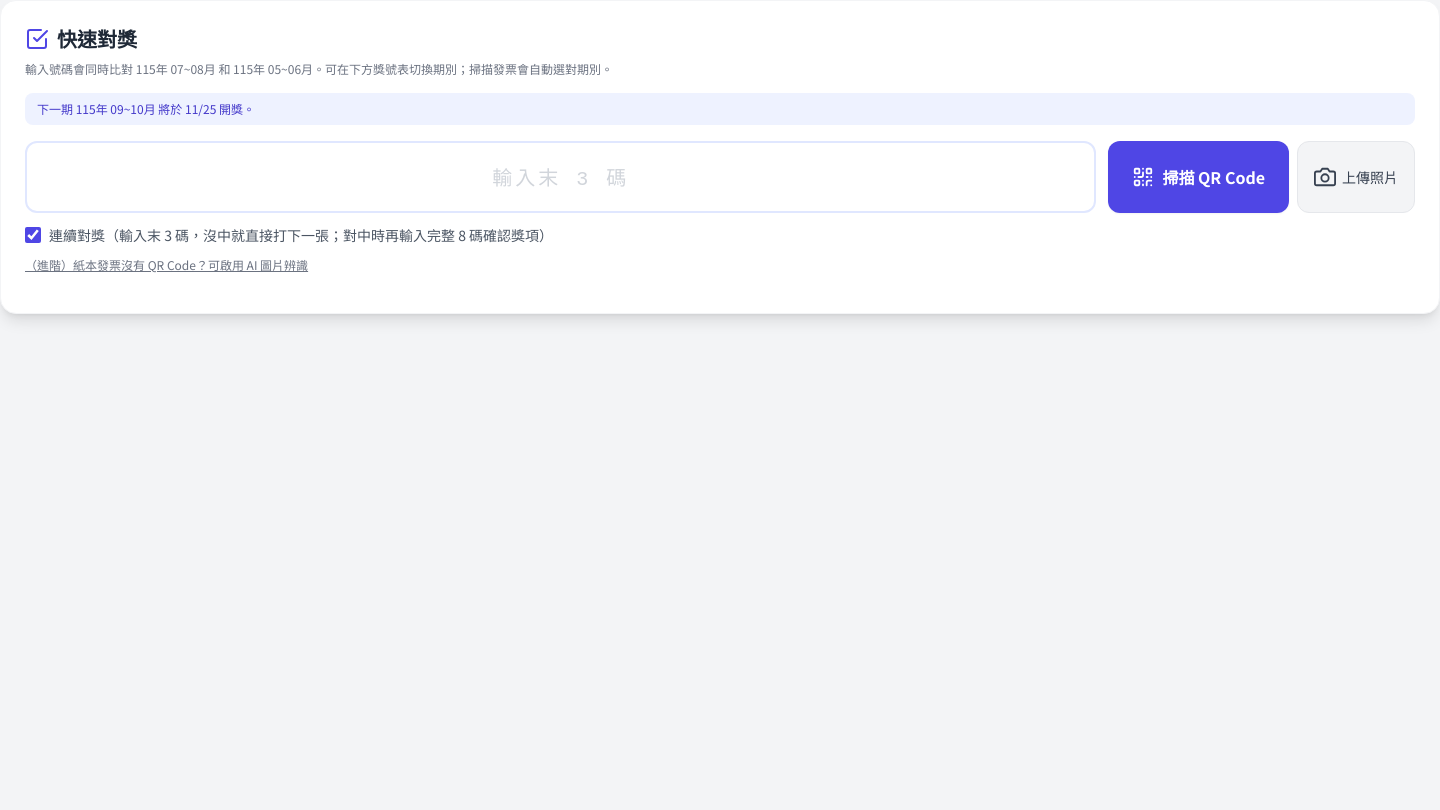
Test: 快速對獎畫面 › 末 3 碼與特別獎相同：顯示疑似中獎，說明要 8 碼全部相同
Step 1. Type "565" into the field named "發票號碼" → (561, 177), box [25,141,1096,213]
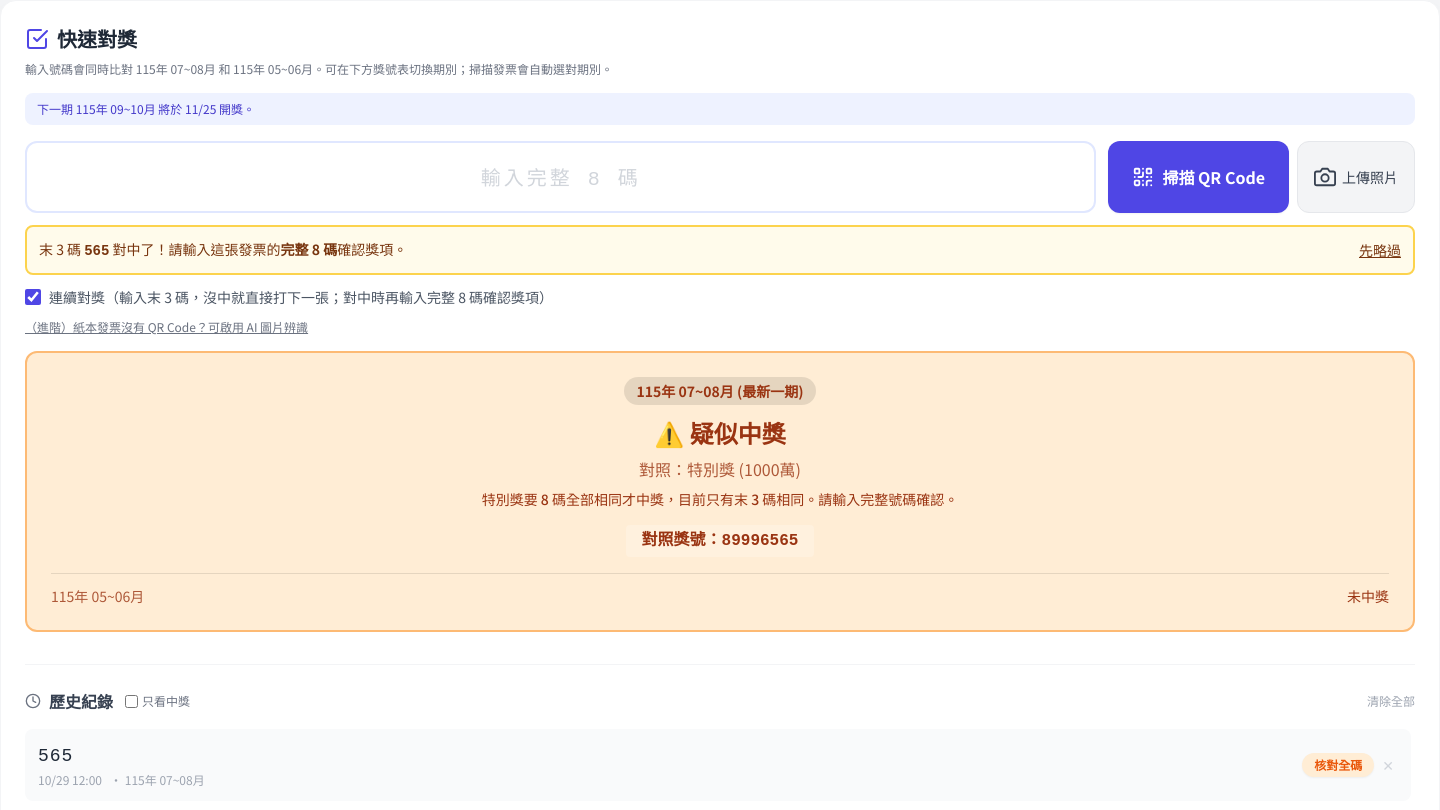
Now the text "⚠️ 疑似中獎" is shown, box [654,415,786,450]
Now the text "對照：特別獎 (1000萬)" is shown, box [639,457,801,481]
Now the text "特別獎要 8 碼全部相同才中獎，目前只有末 3 碼相同。請輸入完整號碼確認。" is shown, box [482,489,958,509]
